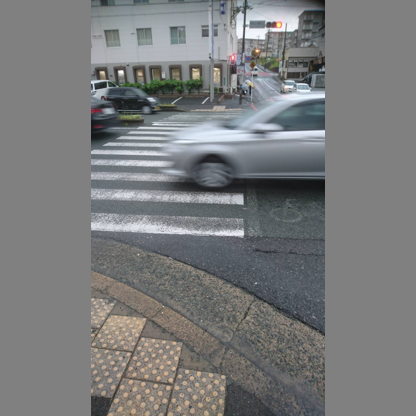brailleblock: (115, 343, 179, 416), (91, 315, 126, 397), (166, 374, 224, 416)
crosswalk: (91, 150, 161, 237)
signal: (229, 53, 237, 64)
